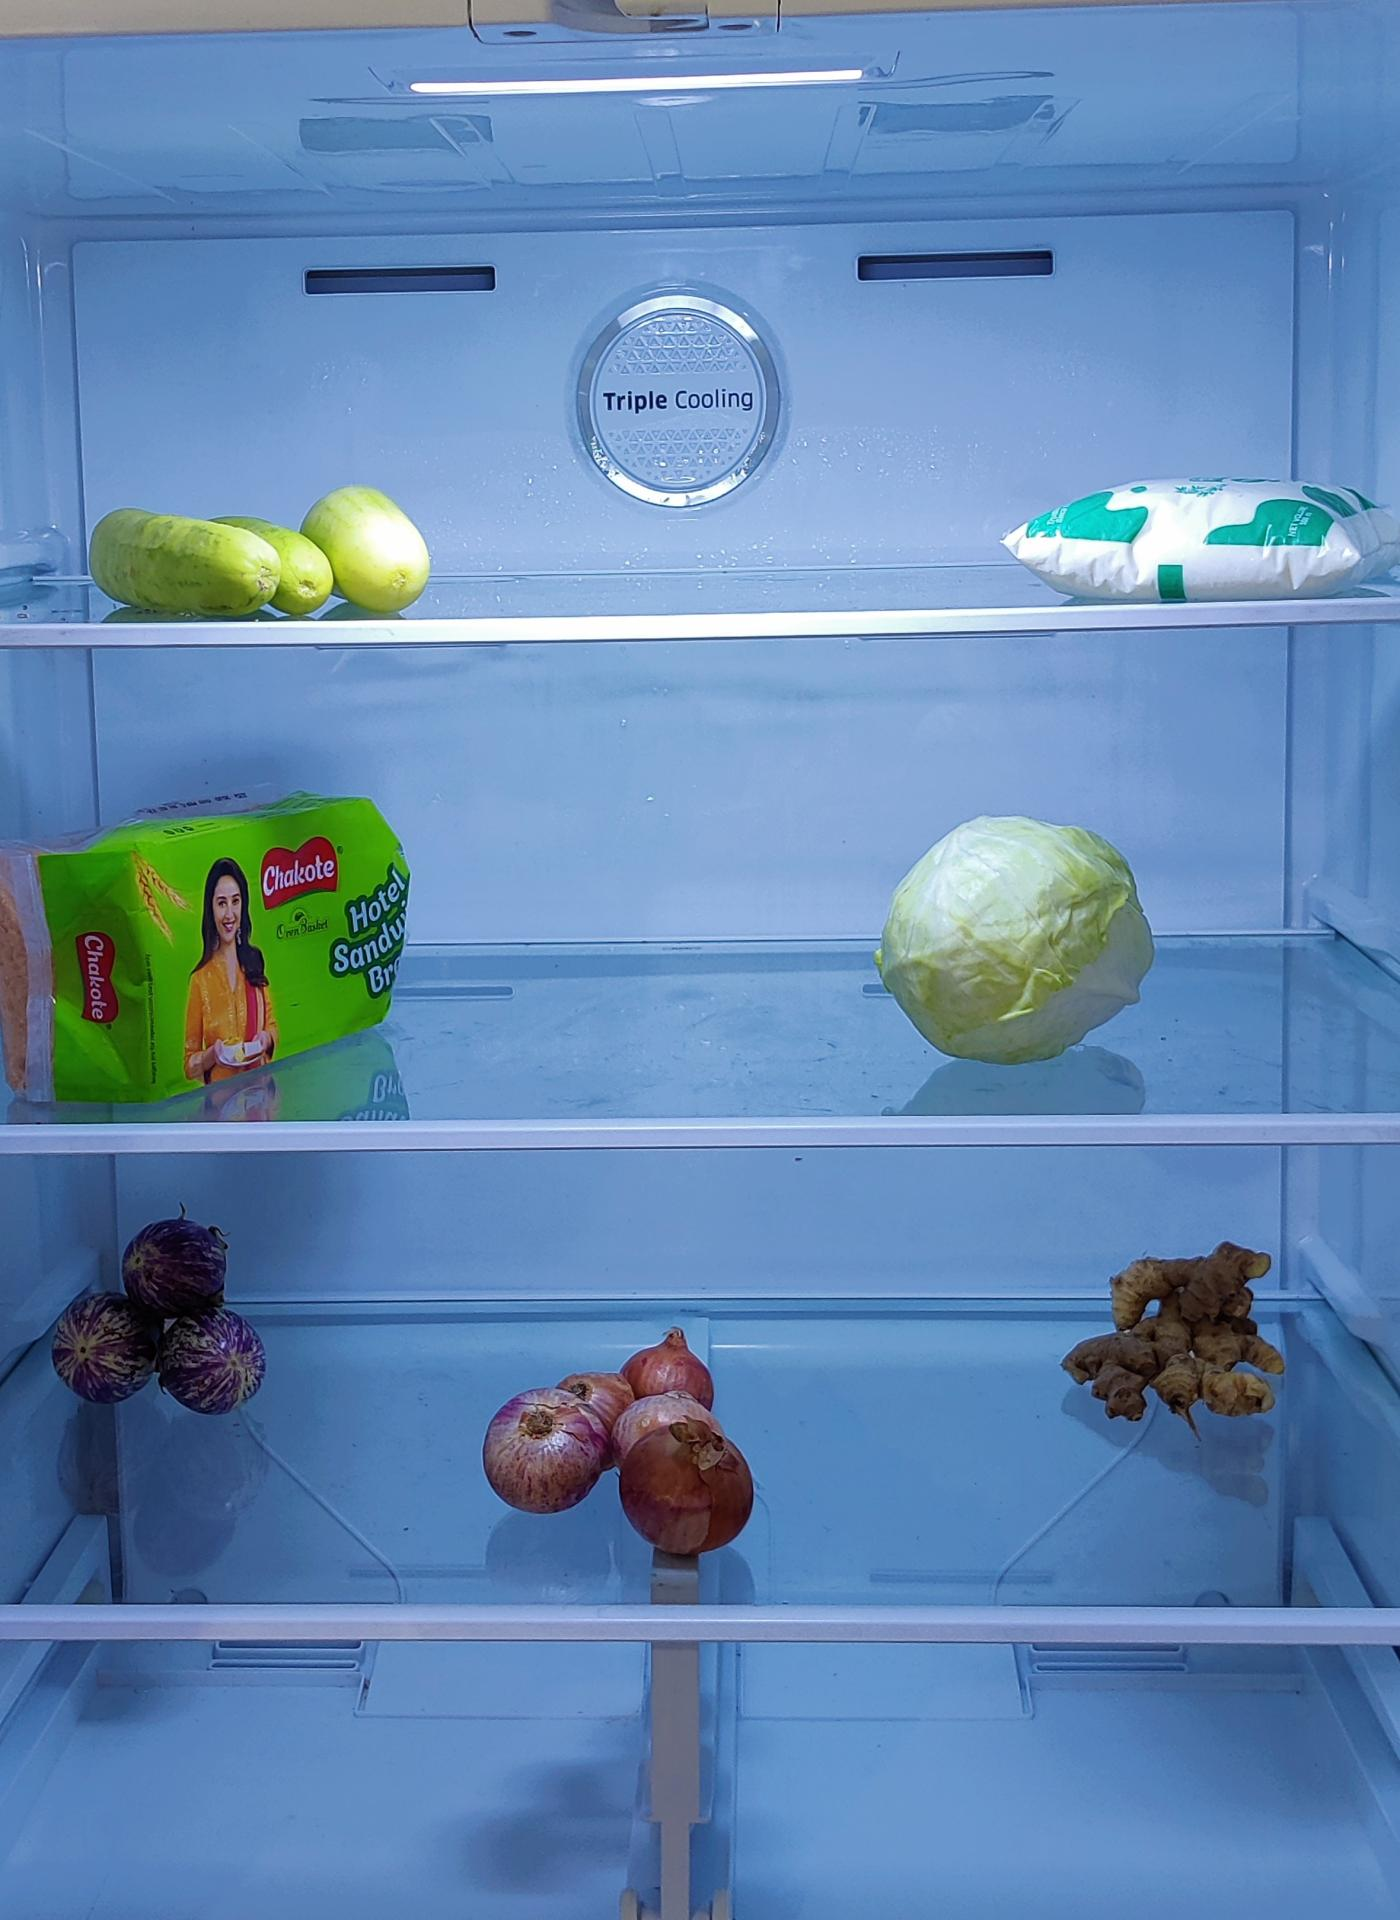bread: (19, 787, 417, 1091)
brinjal: (67, 1203, 279, 1419)
cabbage: (872, 812, 1151, 1064)
cucumber: (91, 487, 440, 623)
ginger: (1066, 1239, 1290, 1430)
milk: (1008, 464, 1384, 598)
onion: (477, 1325, 756, 1564)
